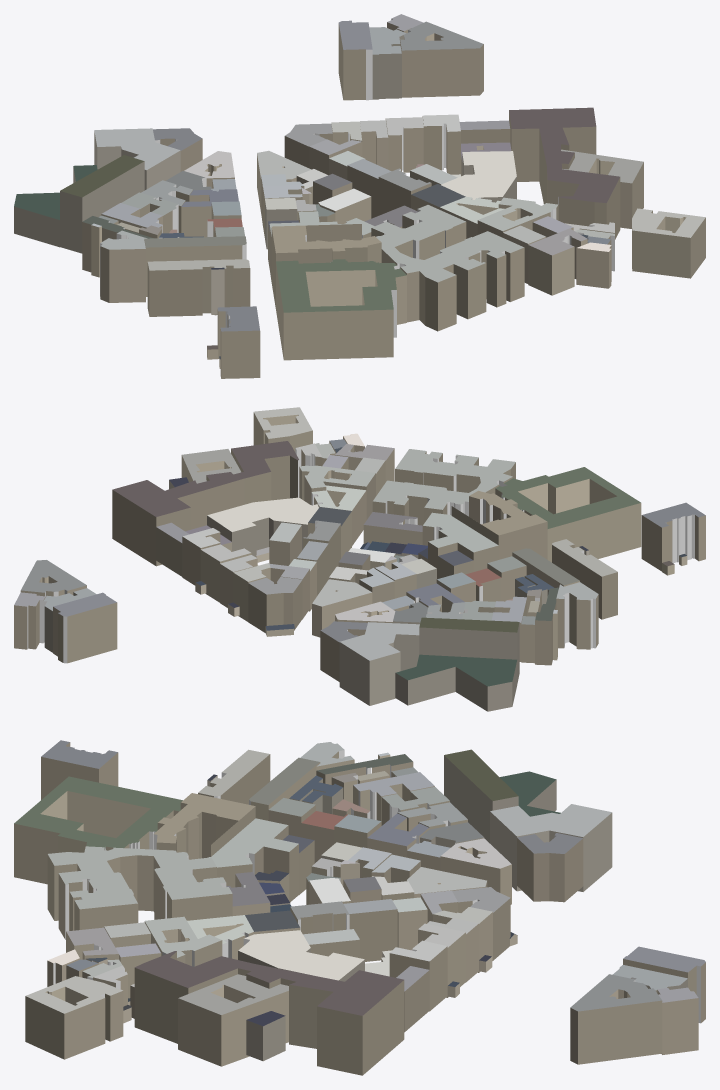
3 renders of one model, top to bottom at view 1: azimuth 30°, elevation 25°; view 2: azimuth 150°, elevation 25°; view 3: azimuth 270°, elevation 25°, orthographic. The views are drawn at different scales.
Visible parts, largest first — view 1: tuile; view 2: tuile; view 3: tuile.
Part boxes in pixels (x1=…): tuile: x1=14, y1=14, x2=705, y2=378; tuile: x1=14, y1=407, x2=705, y2=711; tuile: x1=14, y1=740, x2=705, y2=1075.
Size of the model in its own units: 269 by 32.24 by 283.
